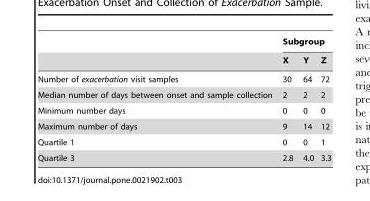table: (37, 36, 330, 162)
table column: (37, 36, 276, 162), (276, 36, 297, 162), (297, 36, 316, 162), (316, 36, 330, 162)
table column header: (37, 36, 330, 69)
table row: (37, 50, 330, 69), (37, 69, 330, 86), (37, 86, 330, 102), (37, 102, 330, 118), (37, 118, 330, 134), (37, 134, 330, 149), (37, 36, 330, 50), (37, 149, 330, 162)
table spanning cell: (276, 36, 330, 50)
